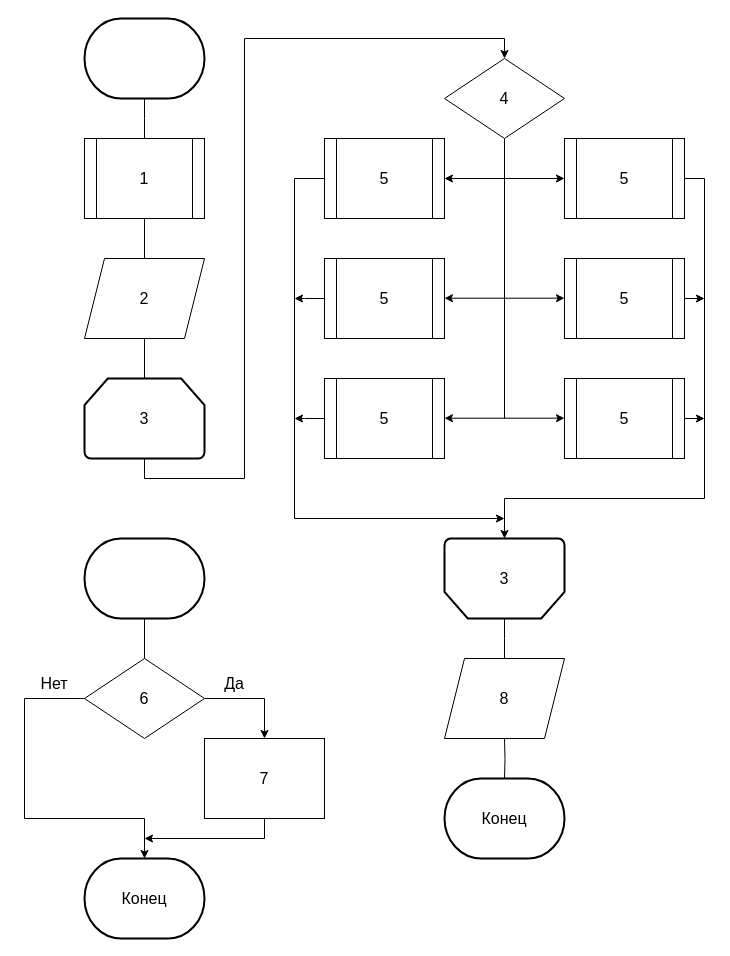
Some shapes in this 730 by 956 pixel diagram are drawn without their labels. The shapes that lost their labels are listed below. From the top down, each one's centre as x and y in pixels, then its label:
At (144,58): "Начало".
At (144,578): "Добавить".
